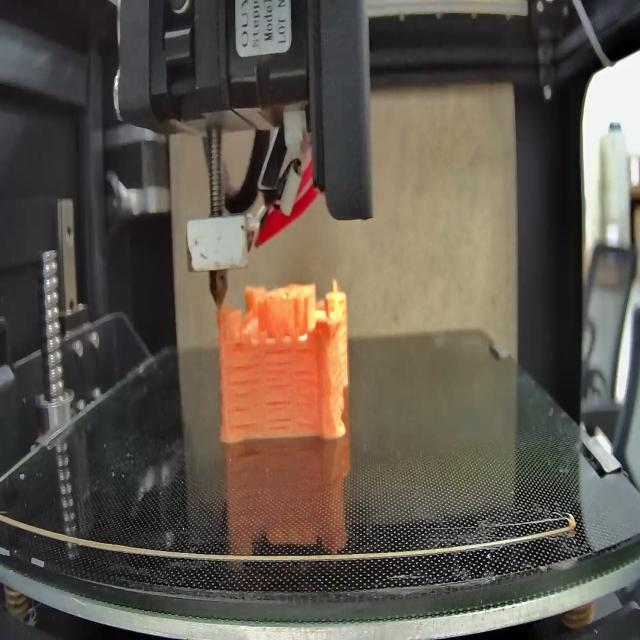cracks: (227, 357, 262, 430), (292, 368, 320, 424), (263, 348, 293, 394), (264, 398, 291, 432), (296, 346, 318, 356)
